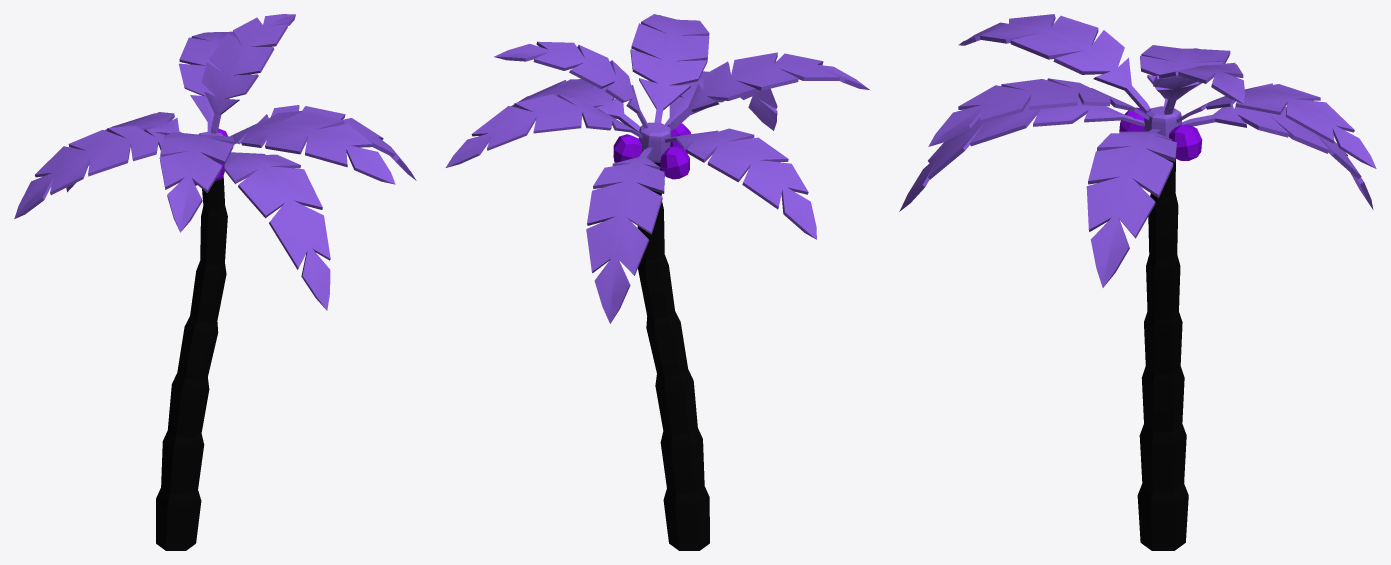
File: Tile_Palme_01.fbx
3 renders of one model, left to right at view 1: azimuth 30°, elevation 25°; view 2: azimuth 150°, elevation 25°; view 3: azimuth 270°, elevation 25°, orthographic. The views are drawn at different scales.
Parts seen in each view (by area): view 1: Blaetter, Stamm; view 2: Blaetter, Stamm, Coconouts, Krone; view 3: Blaetter, Stamm, Coconouts, Krone.
Part boxes in pixels (<box>): Blaetter: <box>14,14,416,310</box>; Stamm: <box>156,176,227,550</box>; Blaetter: <box>445,14,870,323</box>; Stamm: <box>637,162,709,550</box>; Coconouts: <box>613,123,690,179</box>; Krone: <box>638,122,670,162</box>; Blaetter: <box>899,14,1376,287</box>; Stamm: <box>1137,159,1188,550</box>; Coconouts: <box>1119,107,1202,160</box>; Krone: <box>1144,106,1181,137</box>.
Bounding box in the file's own units: 4.84 × 6.13 × 4.96.
